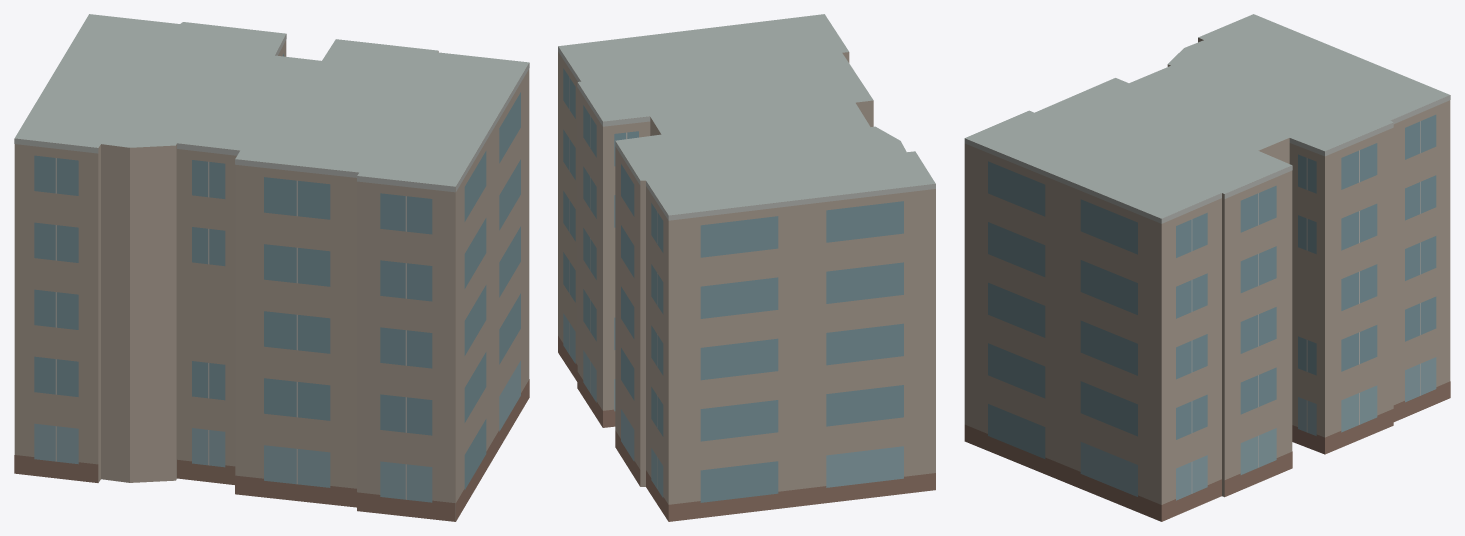
Rendered from survey-upis-32999231.glb.
3 views of the same model, side by side, from view 1: azimuth 30°, elevation 25°; view 2: azimuth 150°, elevation 25°; view 3: azimuth 270°, elevation 25° (orthographic). The views are drawn at different scales.
Parts seen in each view (by area): view 1: survey-upis-32999231.tmp; view 2: survey-upis-32999231.tmp; view 3: survey-upis-32999231.tmp.
Part boxes in pixels (box(x1,y1,x2,y2)): survey-upis-32999231.tmp: box(14, 14, 529, 521); survey-upis-32999231.tmp: box(558, 14, 935, 521); survey-upis-32999231.tmp: box(964, 14, 1450, 521).
Size of the model in its own units: 21.02 by 14.5 by 21.07.
